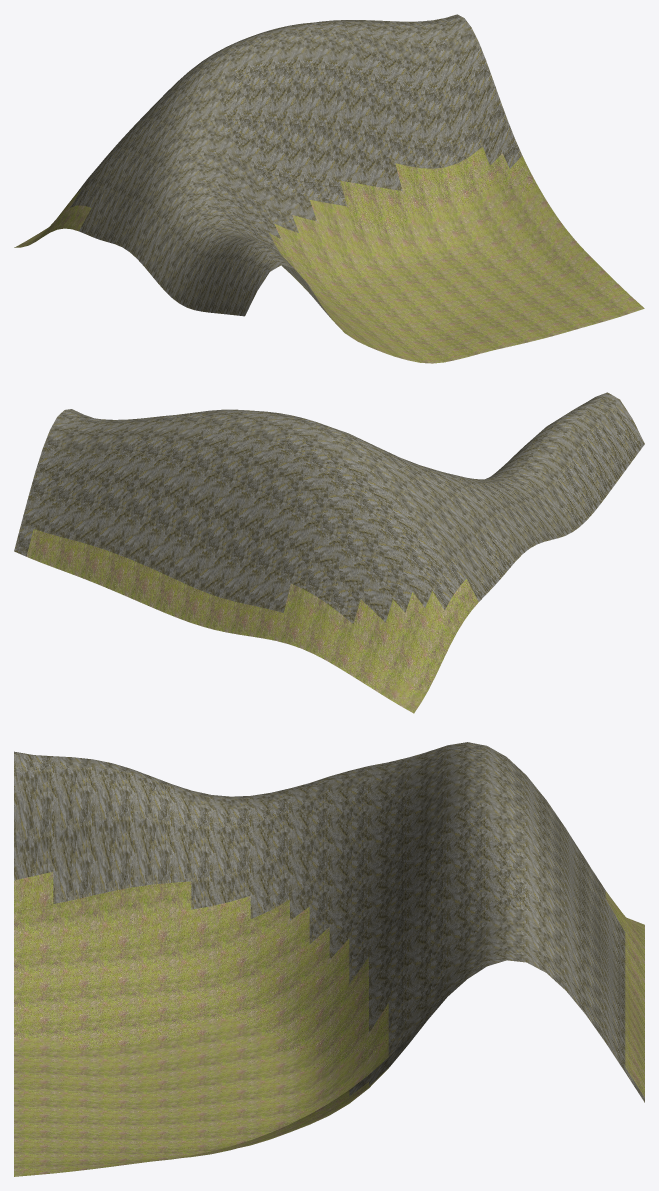
The model's file is chunk_-1_0.glb.
The picture shows the model from 3 angles, top to bottom: view 1: azimuth 30°, elevation 25°; view 2: azimuth 150°, elevation 25°; view 3: azimuth 270°, elevation 25°; orthographic projection. The views are drawn at different scales.
Parts seen in each view (by area): view 1: chunk_-1_0-col; view 2: chunk_-1_0-col; view 3: chunk_-1_0-col.
Boxes of the visible parts, box(x1,y1,x2,y2) form: chunk_-1_0-col: box(14, 14, 644, 363); chunk_-1_0-col: box(14, 392, 644, 713); chunk_-1_0-col: box(14, 742, 644, 1176).
Size of the model in its own units: 64 by 31.85 by 64.
Materials: 2 (2 with a texture image).
